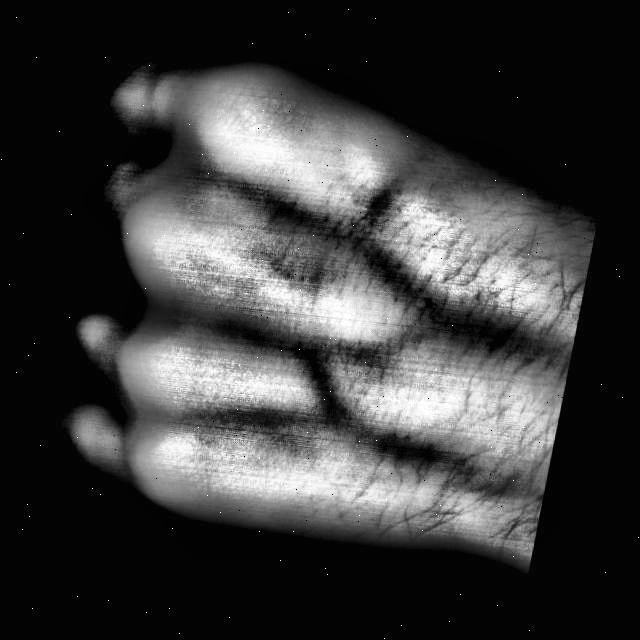Vein: (333, 220, 522, 371)
